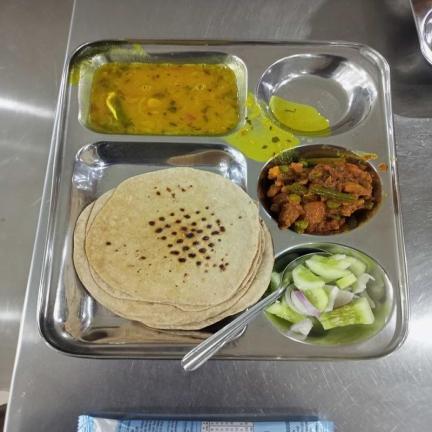Chana Dal: (89, 62, 239, 134)
Mix Veg: (267, 156, 374, 232)
Plate: (36, 38, 410, 360)
Roti: (72, 166, 274, 328)
Salad: (265, 253, 377, 335)
